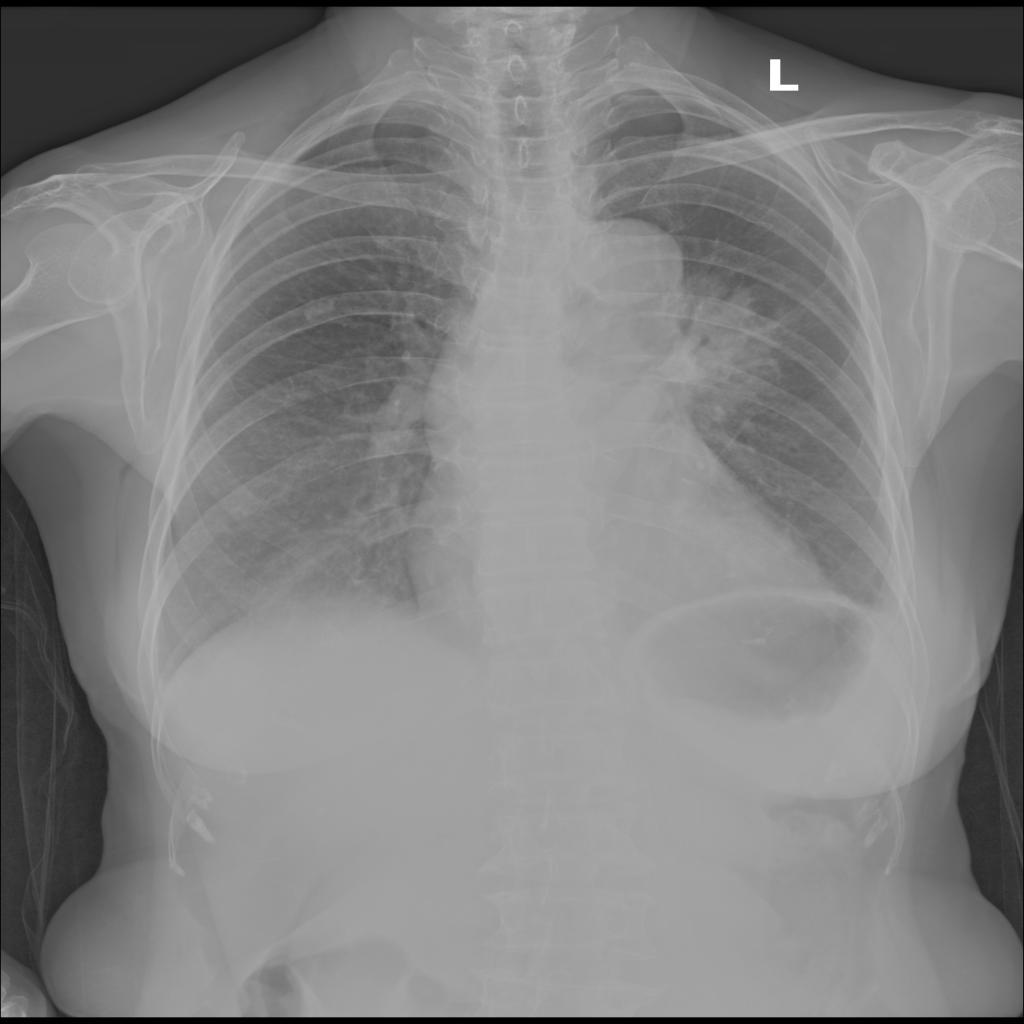Nodule: (641, 274, 787, 428)
